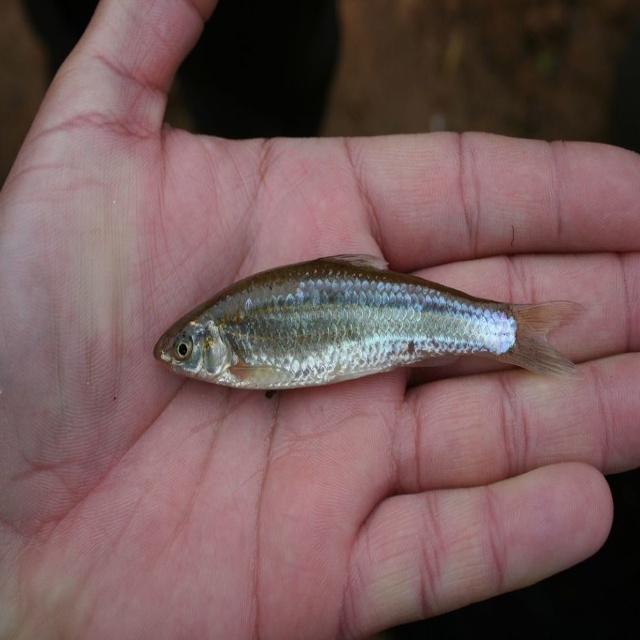Fish: (156, 237, 542, 422)
